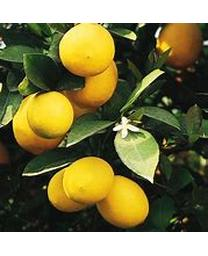lemon: (60, 26, 115, 78), (14, 96, 61, 154), (98, 175, 149, 226), (64, 61, 118, 108), (63, 159, 115, 206), (28, 94, 73, 138), (48, 169, 91, 213)
